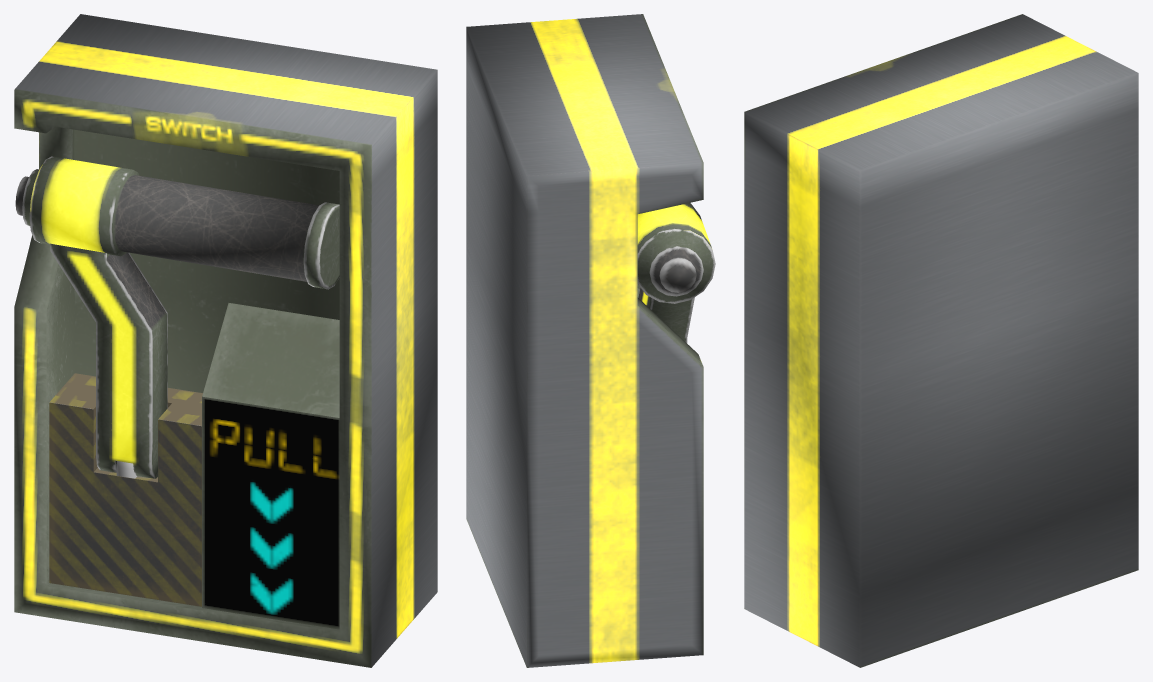
File: toggleable_switch.glb
The picture shows the model from 3 angles, left to right: view 1: azimuth 30°, elevation 25°; view 2: azimuth 150°, elevation 25°; view 3: azimuth 270°, elevation 25°; orthographic projection. The views are drawn at different scales.
Parts seen in each view (by area): view 1: lever_wallbox_high, Lever_high, lever_box_high, lever_holder_high; view 2: lever_wallbox_high, Lever_high; view 3: lever_wallbox_high.
Boxes of the visible parts, x1,y1,x2,y2 form: lever_wallbox_high: [14, 14, 437, 667]; Lever_high: [15, 156, 339, 478]; lever_box_high: [202, 303, 339, 629]; lever_holder_high: [49, 373, 202, 606]; lever_wallbox_high: [466, 14, 703, 667]; Lever_high: [637, 202, 715, 343]; lever_wallbox_high: [744, 14, 1138, 667].
Bounding box in the file's own units: 36.04 × 53.29 × 38.31.
Materials: 1 (1 with a texture image).
